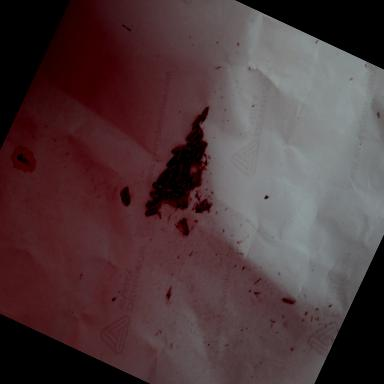pbw: (185, 126, 202, 150), (170, 140, 190, 160), (196, 106, 210, 128), (191, 138, 208, 156), (156, 167, 172, 186), (166, 150, 180, 170), (185, 124, 199, 144), (191, 146, 204, 166), (143, 204, 159, 220), (190, 132, 204, 150), (194, 198, 209, 214), (190, 168, 203, 186), (182, 158, 194, 177), (190, 113, 202, 132), (148, 198, 162, 214), (144, 196, 158, 212), (186, 146, 198, 164), (169, 168, 183, 183), (175, 160, 188, 176), (182, 174, 195, 190), (166, 160, 180, 174), (176, 193, 188, 209), (176, 144, 186, 162), (160, 184, 174, 196), (180, 160, 191, 175), (148, 190, 163, 201), (180, 194, 192, 207), (174, 179, 187, 191), (180, 150, 192, 163), (178, 147, 188, 162), (168, 192, 180, 204), (151, 180, 164, 191), (164, 176, 178, 186), (163, 180, 175, 190), (194, 144, 202, 158), (176, 186, 186, 195), (166, 192, 174, 201), (171, 191, 180, 198), (154, 187, 162, 194), (160, 190, 168, 196)
